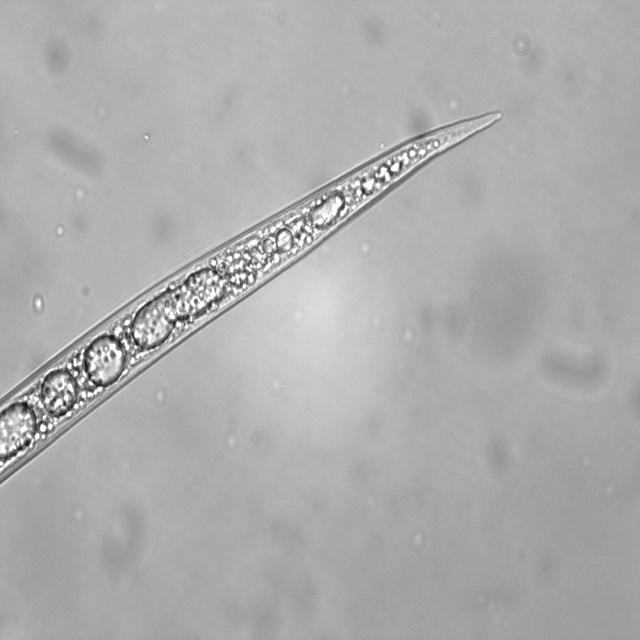Meloidogyne: (0, 103, 510, 487)
